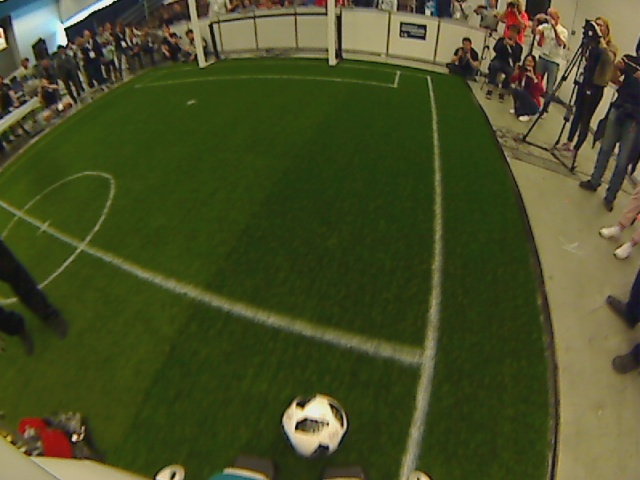ball: (278, 390, 349, 459)
goalpost: (186, 52, 213, 79), (323, 48, 342, 72)
robot: (36, 412, 98, 454)
